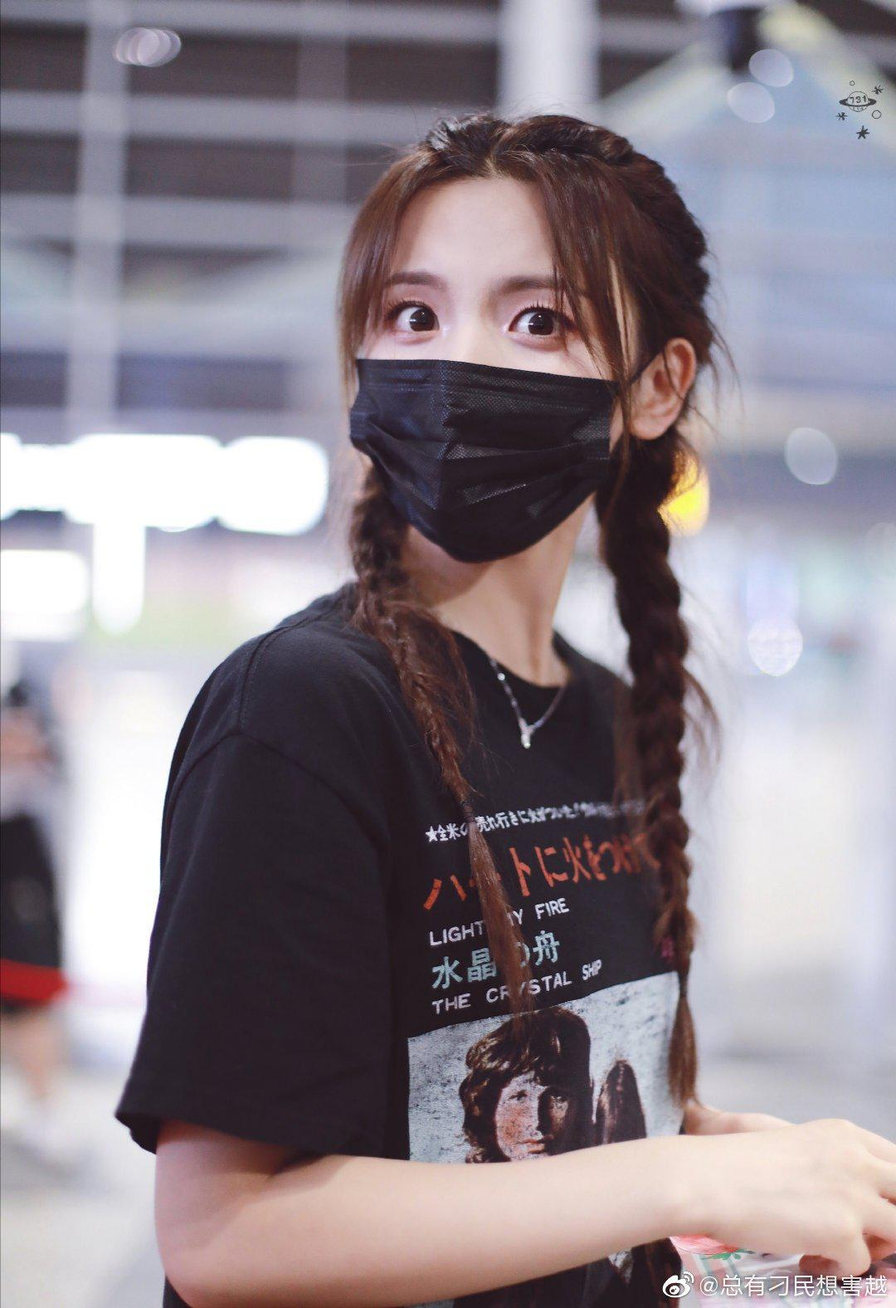OK: (351, 239, 622, 554)
